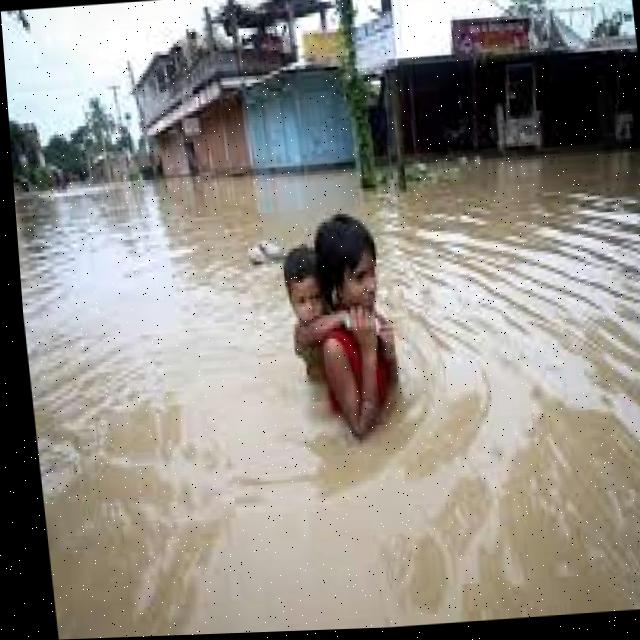civilian: (303, 198, 421, 471), (272, 231, 392, 392)
